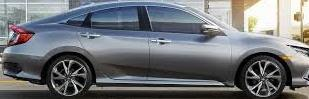Cars: (3, 3, 309, 98)
